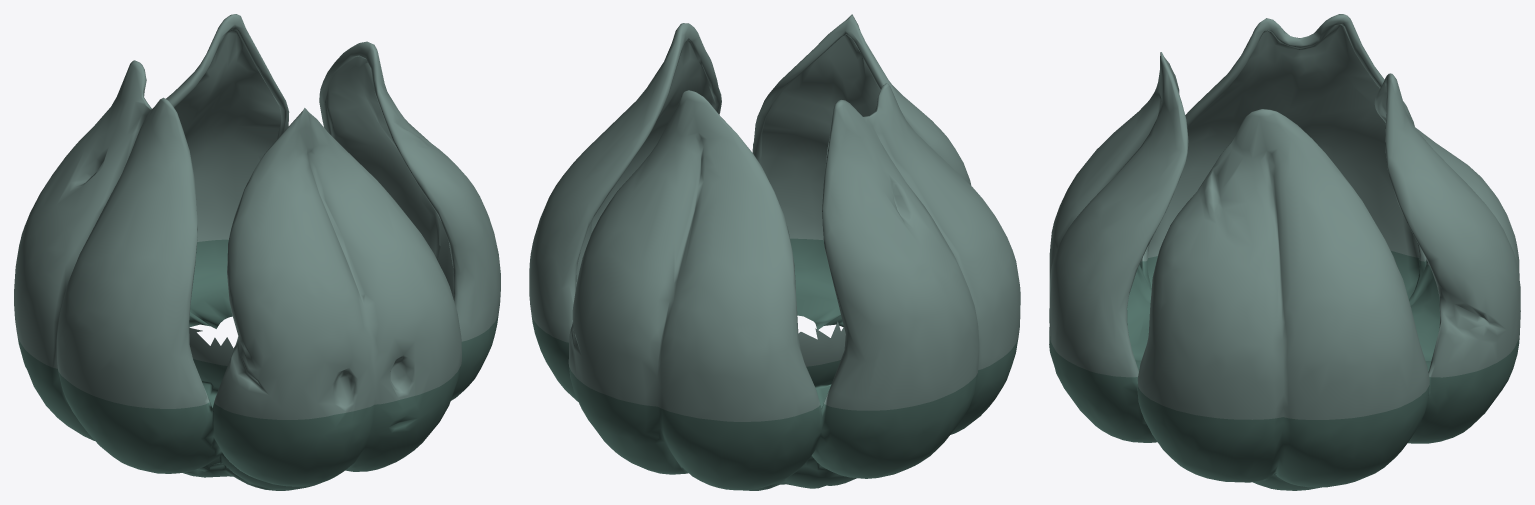
The model's file is body.glb.
3 renders of one model, left to right at view 1: azimuth 30°, elevation 25°; view 2: azimuth 150°, elevation 25°; view 3: azimuth 270°, elevation 25°, orthographic.
Visible parts, largest first — view 1: wisp; view 2: wisp; view 3: wisp.
Part boxes in pixels (<box>): wisp: <box>14,14,500,490</box>; wisp: <box>529,14,1020,490</box>; wisp: <box>1049,14,1520,490</box>.
Size of the model in its own units: 1.38 by 1.3 by 1.36.
